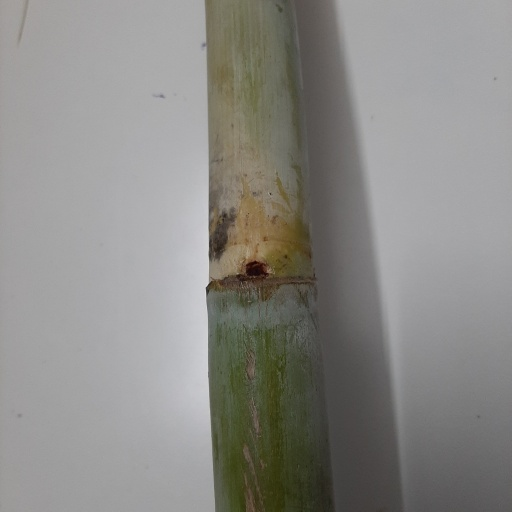Damage_Bud: (244, 259, 272, 278)
